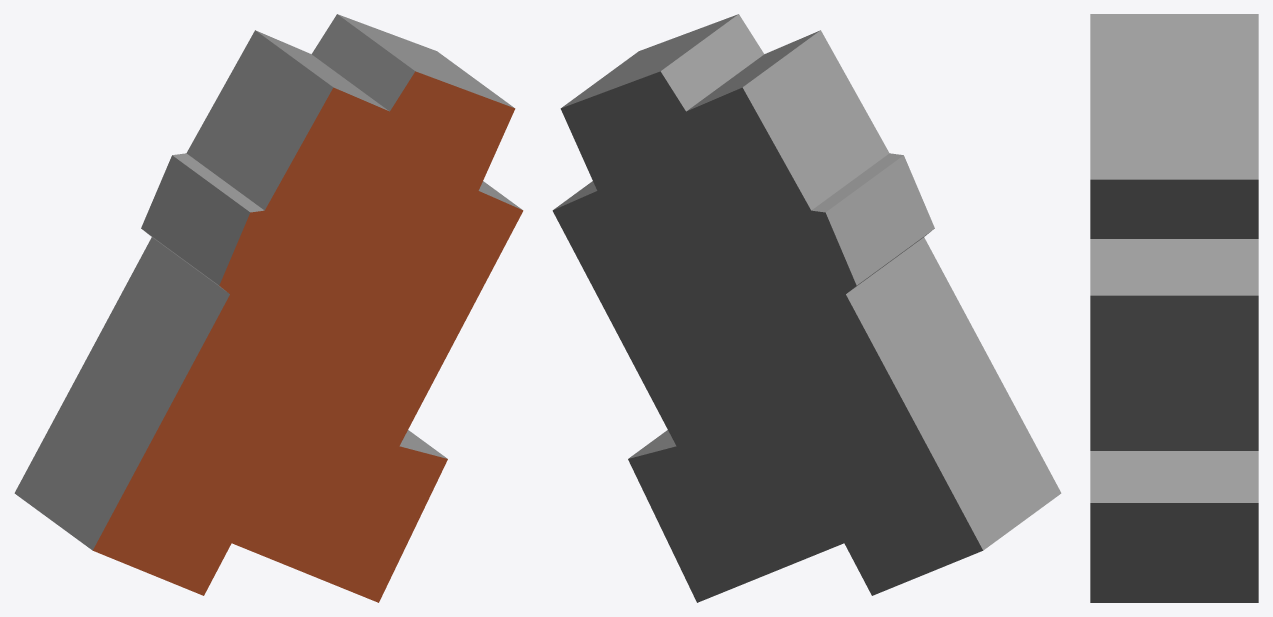
File: construction_4682_assumed_A_Casa_h6m.obj
The picture shows the model from 3 angles, left to right: view 1: azimuth 30°, elevation 25°; view 2: azimuth 150°, elevation 25°; view 3: azimuth 270°, elevation 25°; orthographic projection. The views are drawn at different scales.
Parts seen in each view (by area): view 1: construction_4682_assumed_A_Casa; view 2: construction_4682_assumed_A_Casa; view 3: construction_4682_assumed_A_Casa.
Part boxes in pixels (box(x1,y1,x2,y2)): construction_4682_assumed_A_Casa: box(14, 14, 523, 602); construction_4682_assumed_A_Casa: box(552, 14, 1061, 602); construction_4682_assumed_A_Casa: box(1090, 14, 1258, 602).
Bounding box in the file's own units: 19.06 × 22.26 × 6.
